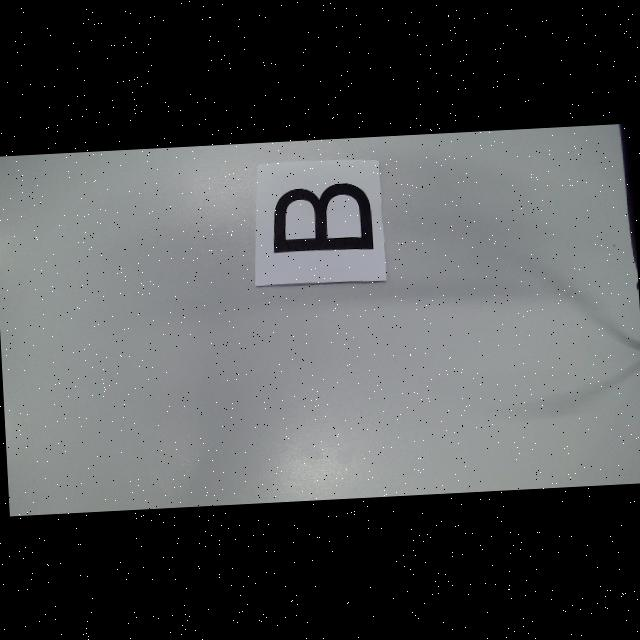FAKE: (271, 181, 374, 254)
